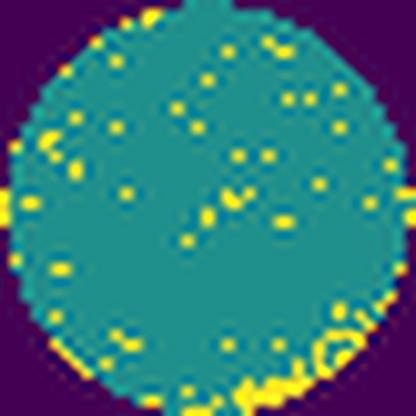Edge-Loc: (230, 299, 375, 415)
